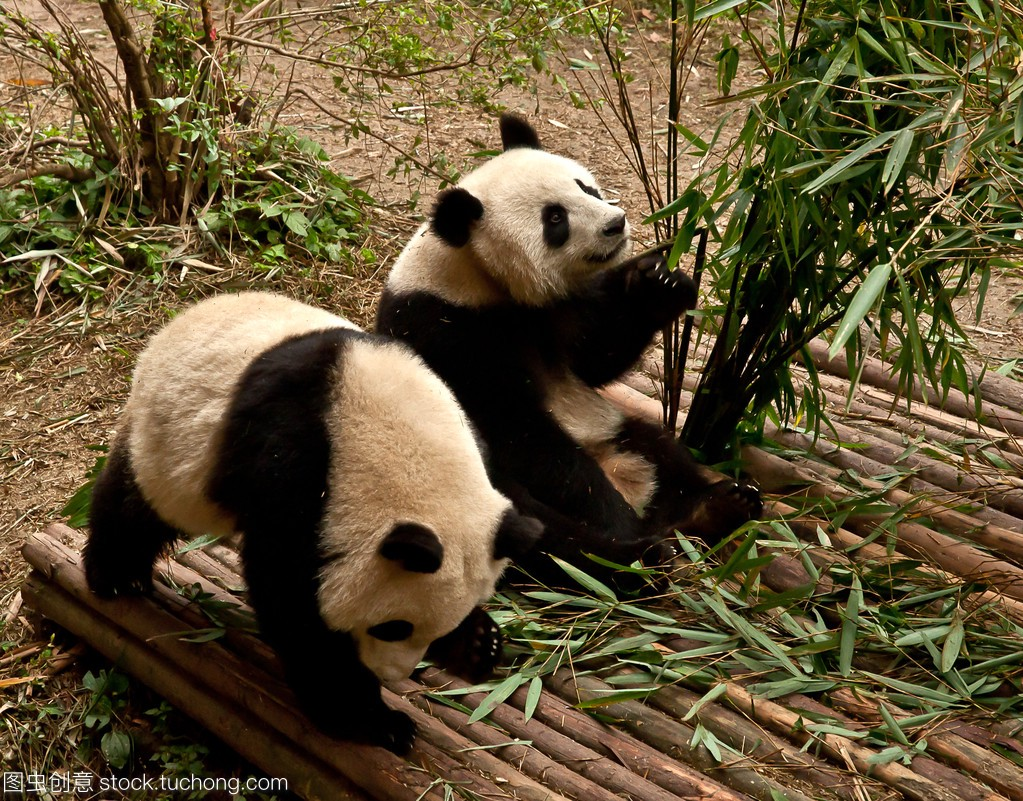panda: (65, 288, 525, 718), (353, 113, 731, 559)
